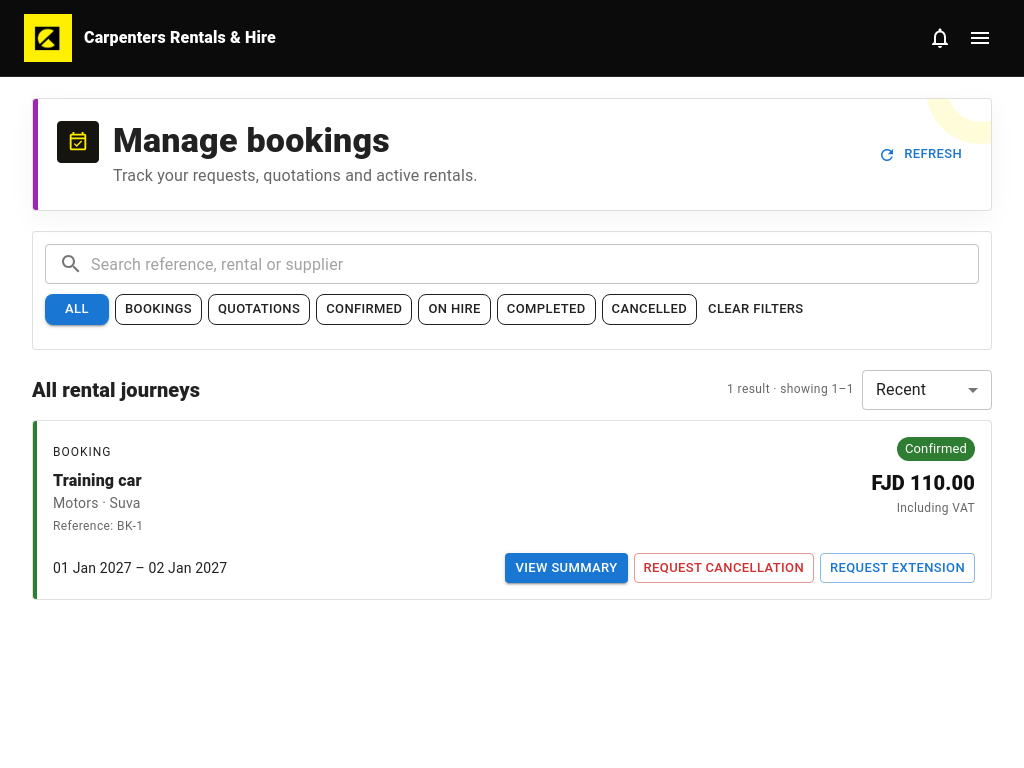
Test case: requires a reason when requesting cancellation of a confirmed hire
Later steps or results of the test are not shown.
Check: the text "Training car" is shown, box x1=53 y1=469 x2=143 y2=493
Click the button "Request cancellation": (724, 568) x1=634 y1=553 x2=814 y2=584
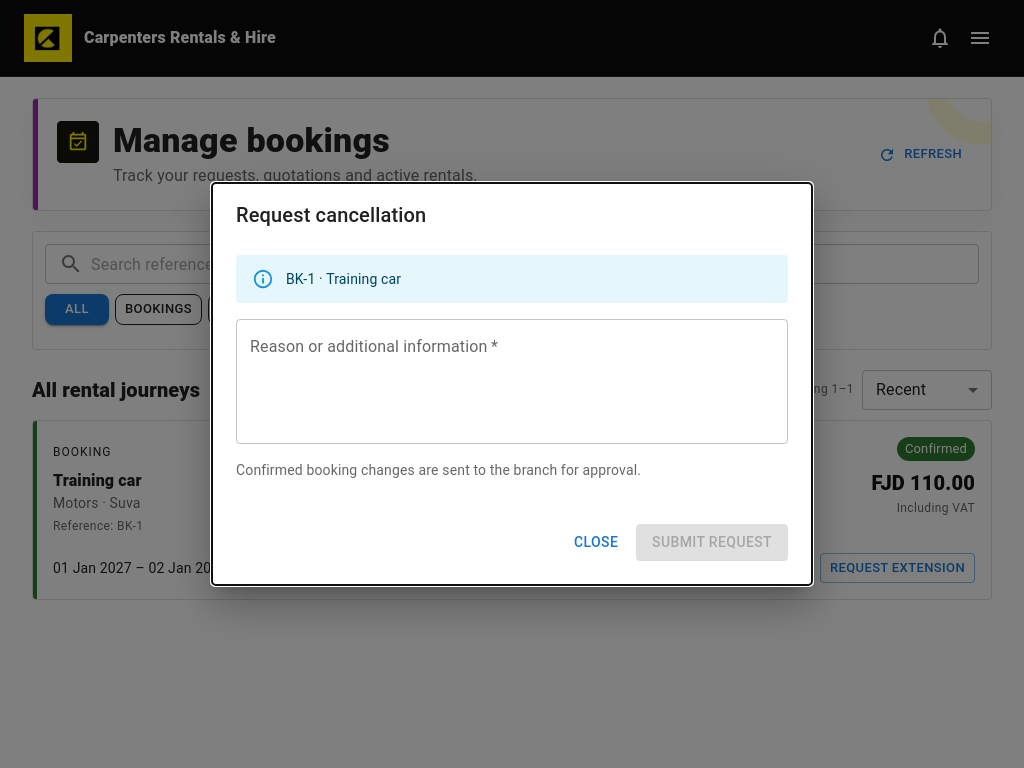
Check: the button "Submit request" is disabled, box x1=636 y1=524 x2=788 y2=561
